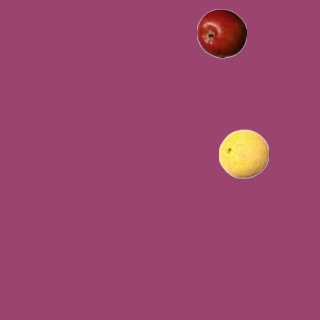Apple Braeburn: (196, 8, 246, 58)
Cantaloupe 1: (218, 128, 268, 178)
